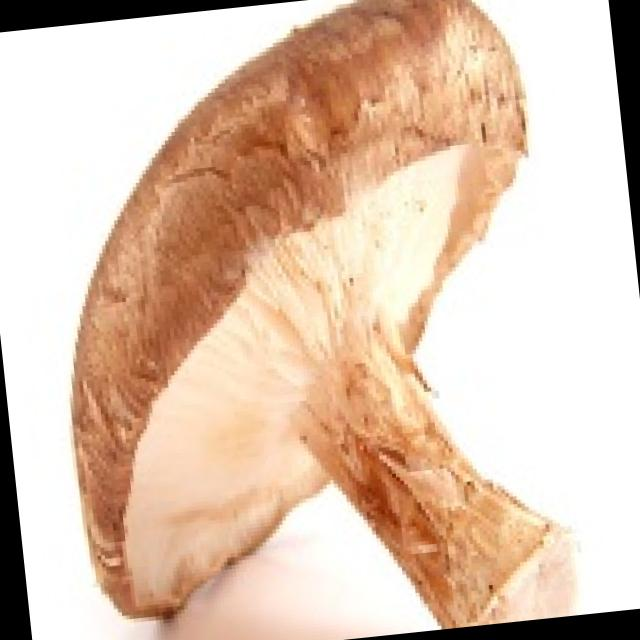mushroom: (19, 0, 591, 640)
